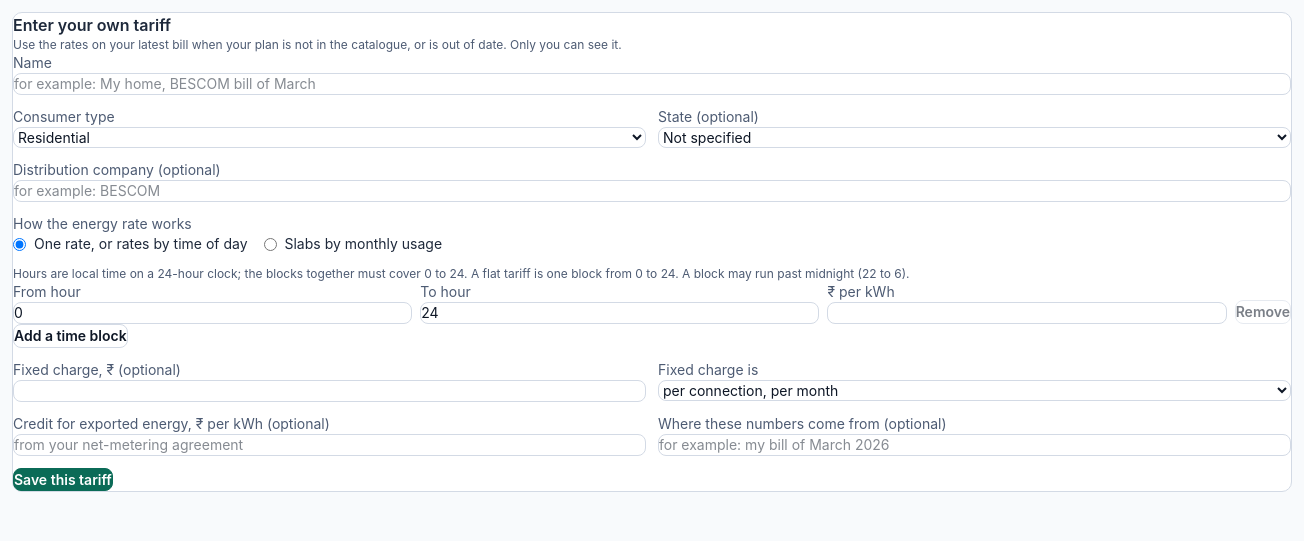
Test: CustomTariffForm › shows the server's explanation of what is wrong and does not report success
Type "Gappy" into the field labelled "Name" at (652, 84), box x1=13 y1=73 x2=1291 y2=95
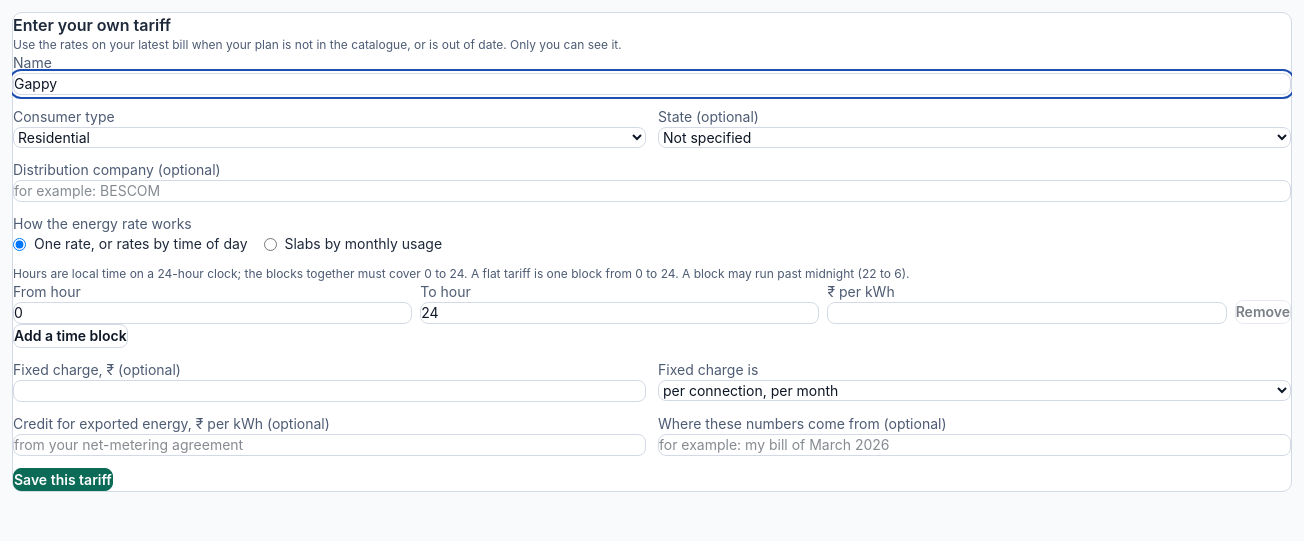
Type "7" into the field labelled "₹ per kWh" at (1027, 313), box x1=827 y1=302 x2=1227 y2=324
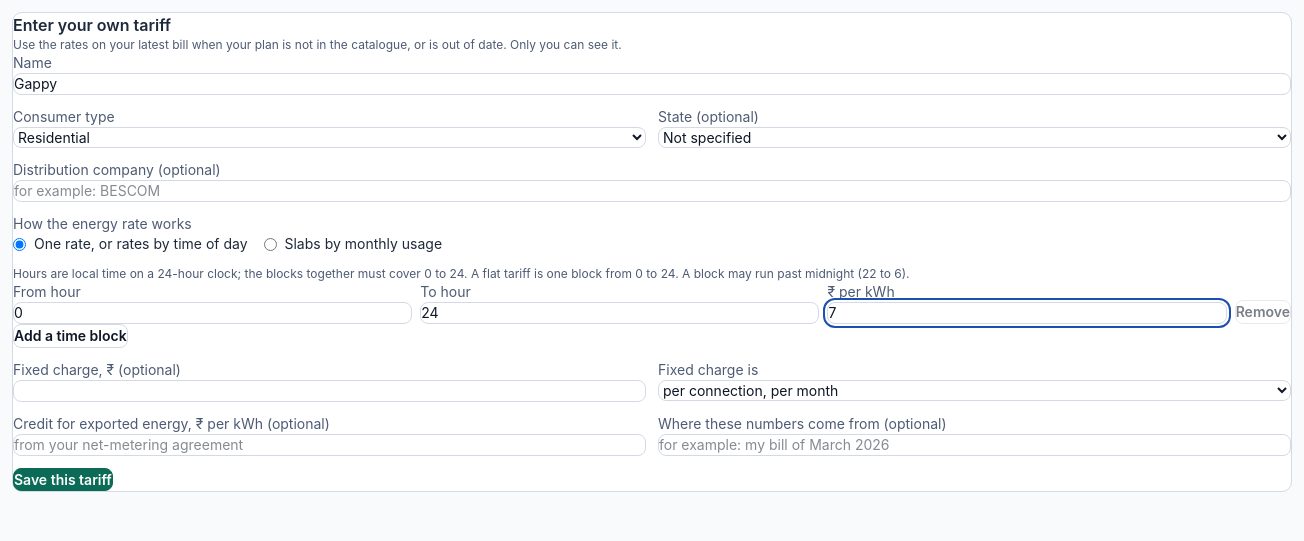
Click the button "Save this tariff" at (63, 480), box x1=13 y1=468 x2=113 y2=491
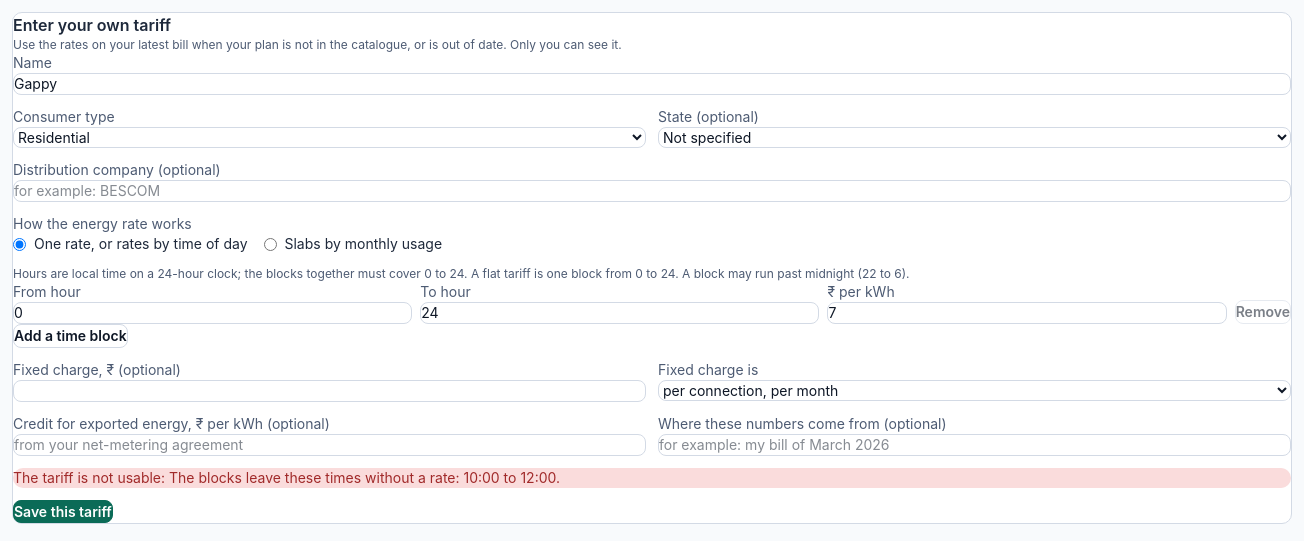
expect the button "Save this tariff" is enabled: met, box x1=13 y1=500 x2=113 y2=523
expect the message shows "10:00 to 12:00": met, box x1=13 y1=469 x2=560 y2=486
